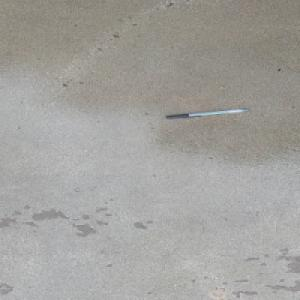Pen: (165, 107, 250, 119)
